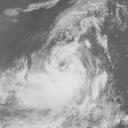cyclone: (17, 41, 91, 113)
